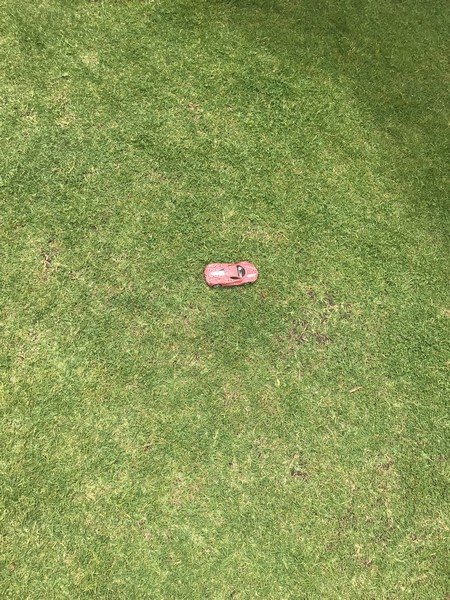RC: (204, 260, 260, 289)
